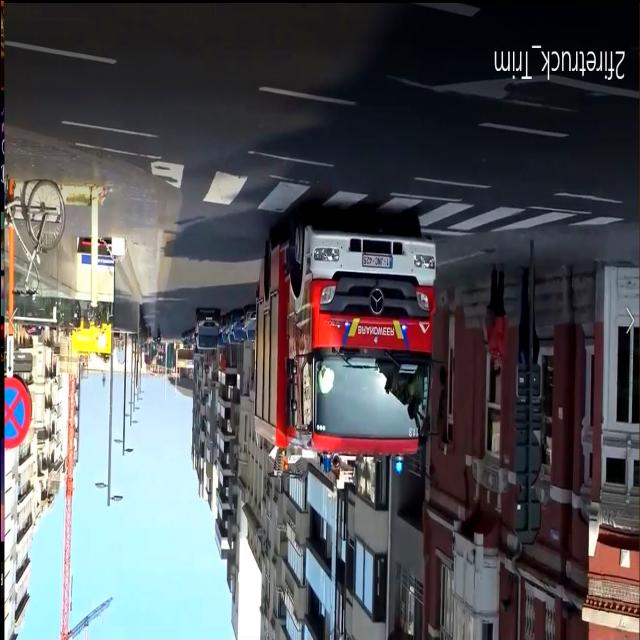emergency: (243, 202, 447, 503)
